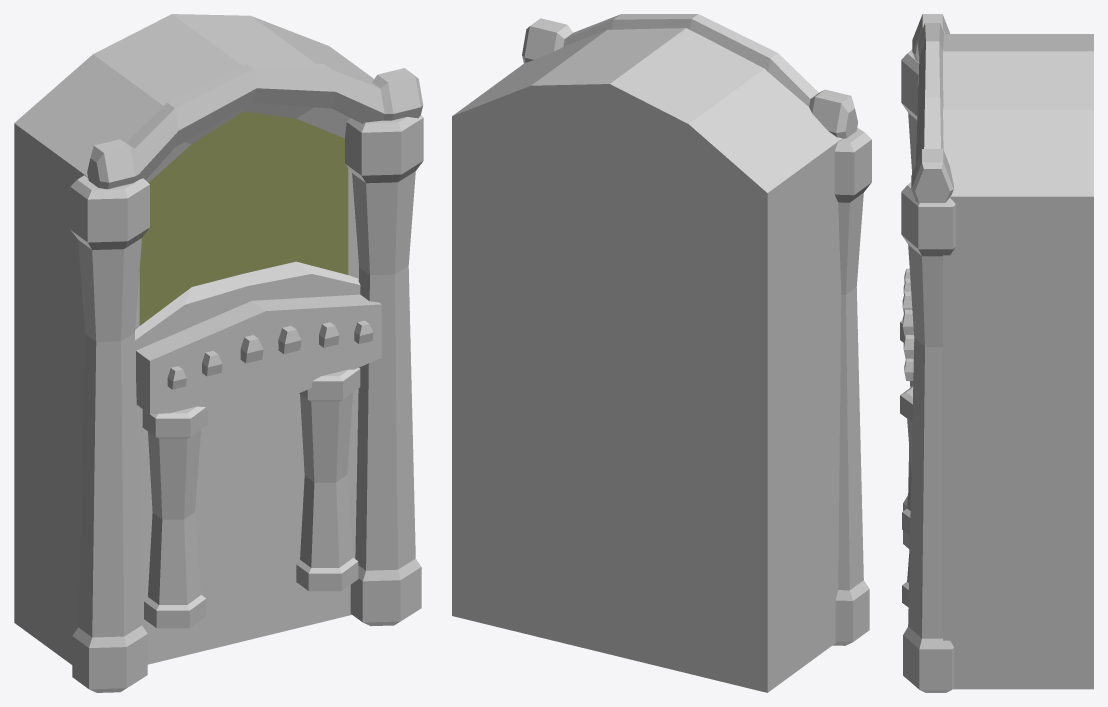
The model's file is jukebox.fbx.
3 renders of one model, left to right at view 1: azimuth 30°, elevation 25°; view 2: azimuth 150°, elevation 25°; view 3: azimuth 270°, elevation 25°, orthographic.
Visible parts, largest first — view 1: jukebox; view 2: jukebox; view 3: jukebox.
Part boxes in pixels (box(x1,y1,x2,y2)): jukebox: box(14, 14, 423, 692); jukebox: box(452, 14, 871, 692); jukebox: box(900, 14, 1093, 692).
Size of the model in its own units: 508 by 846 by 257.
